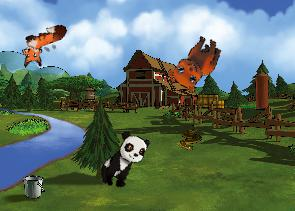bear: (163, 27, 225, 97)
fox: (14, 21, 74, 71)
panda: (95, 127, 152, 194)
